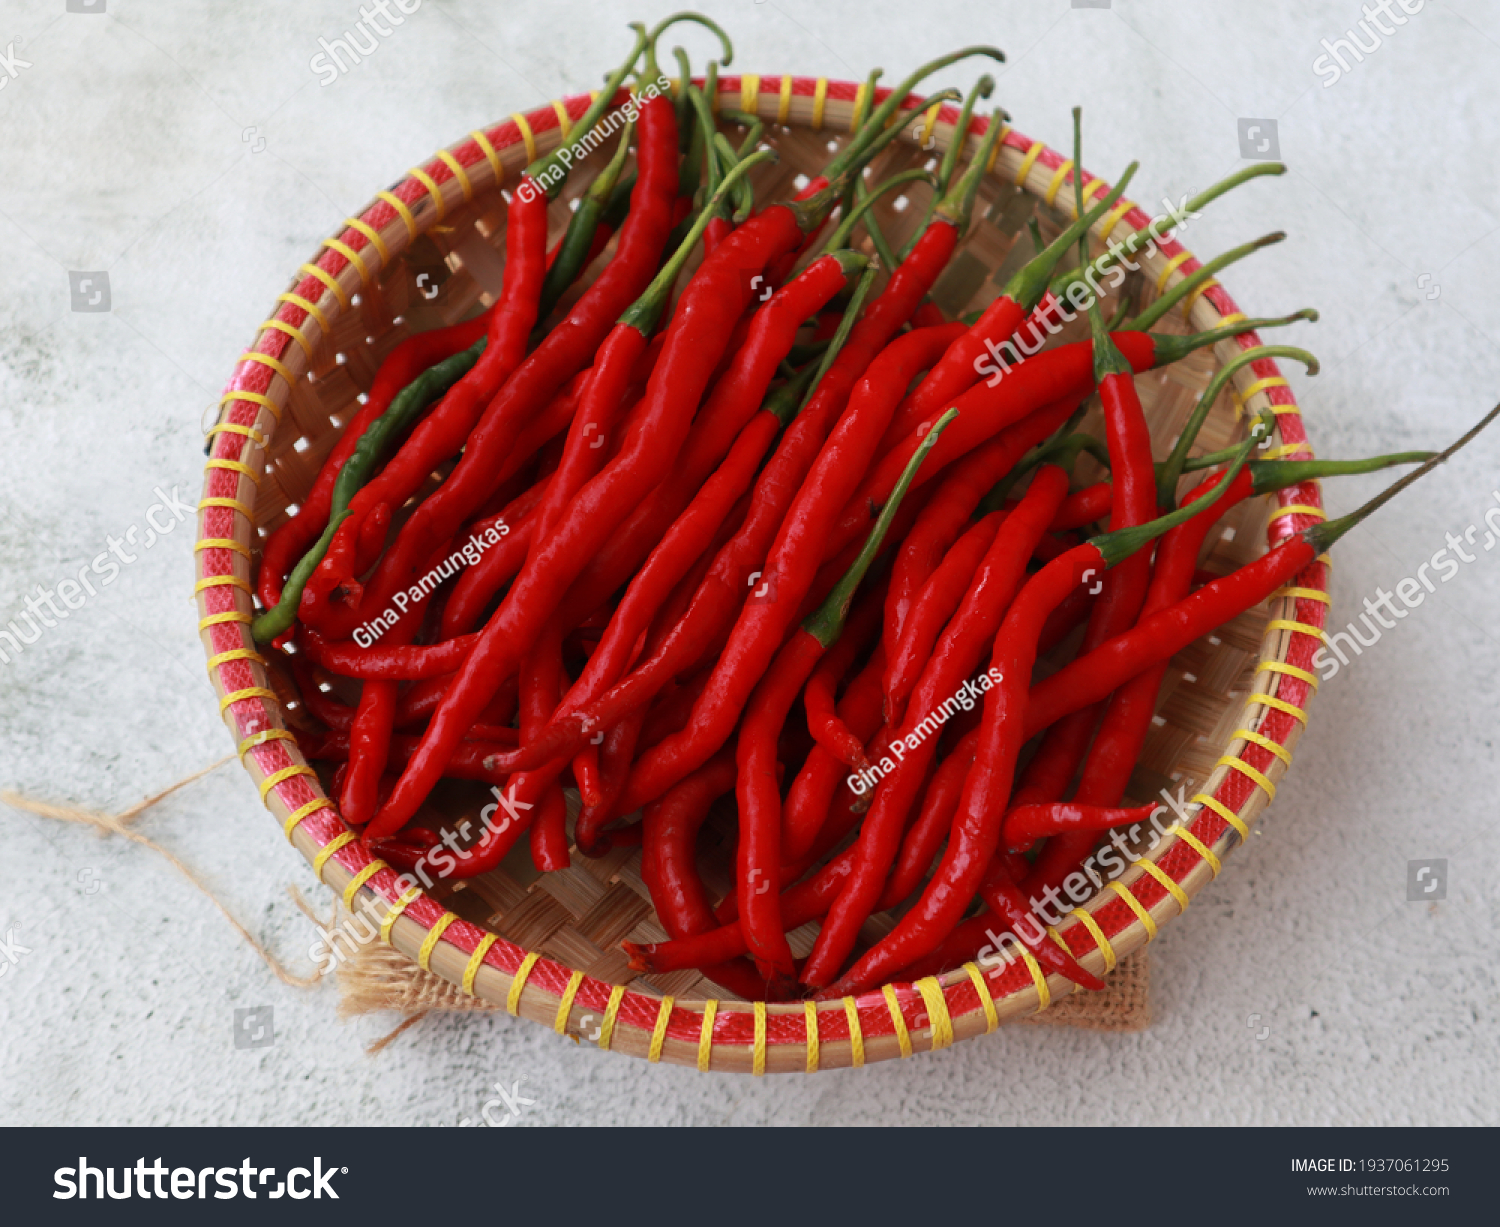Cabai: (384, 98, 1261, 960)
